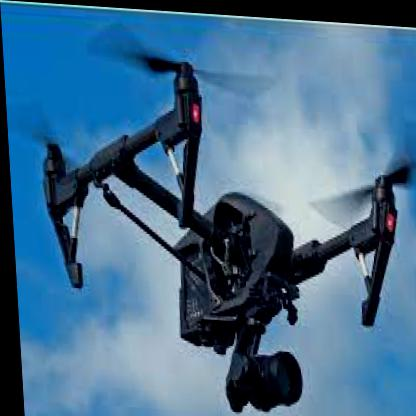UAS: (33, 52, 415, 415)
